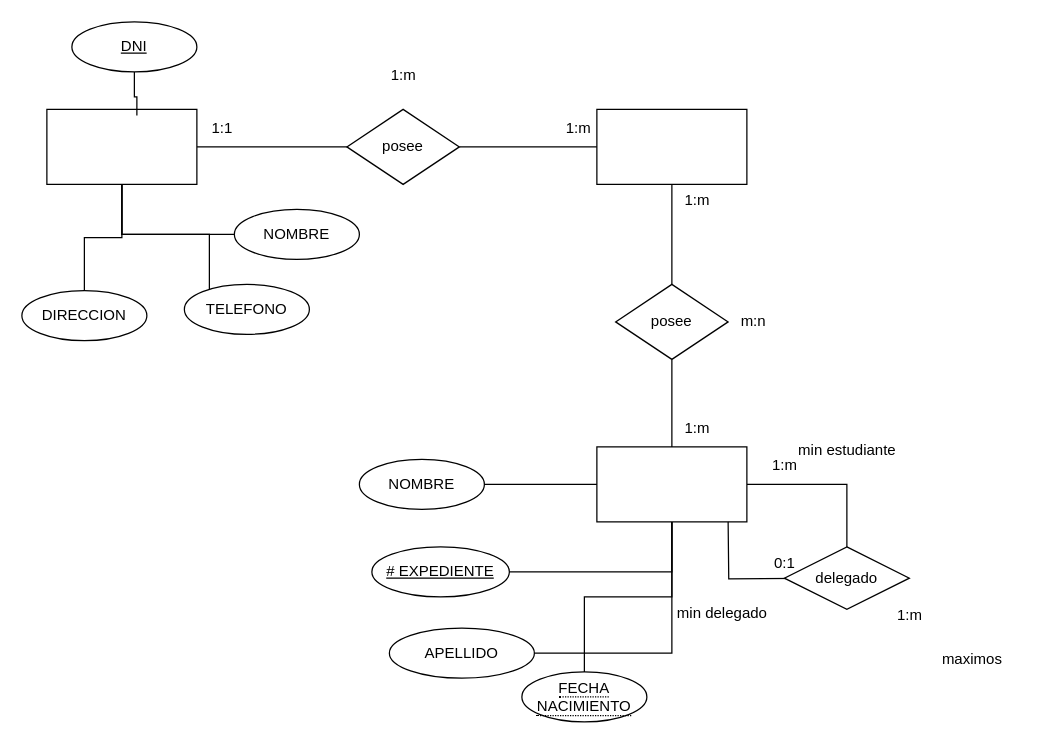
This 1038x744 diagram has some shape labels left out. The shapes that lost their labels are listed below. From the top down, each one's centre as x and y in pixels, then its label:
At (x=121, y=146): "PROFESOR".
At (x=671, y=146): "MODULO".
At (x=671, y=484): "ESTUDIANTE".
